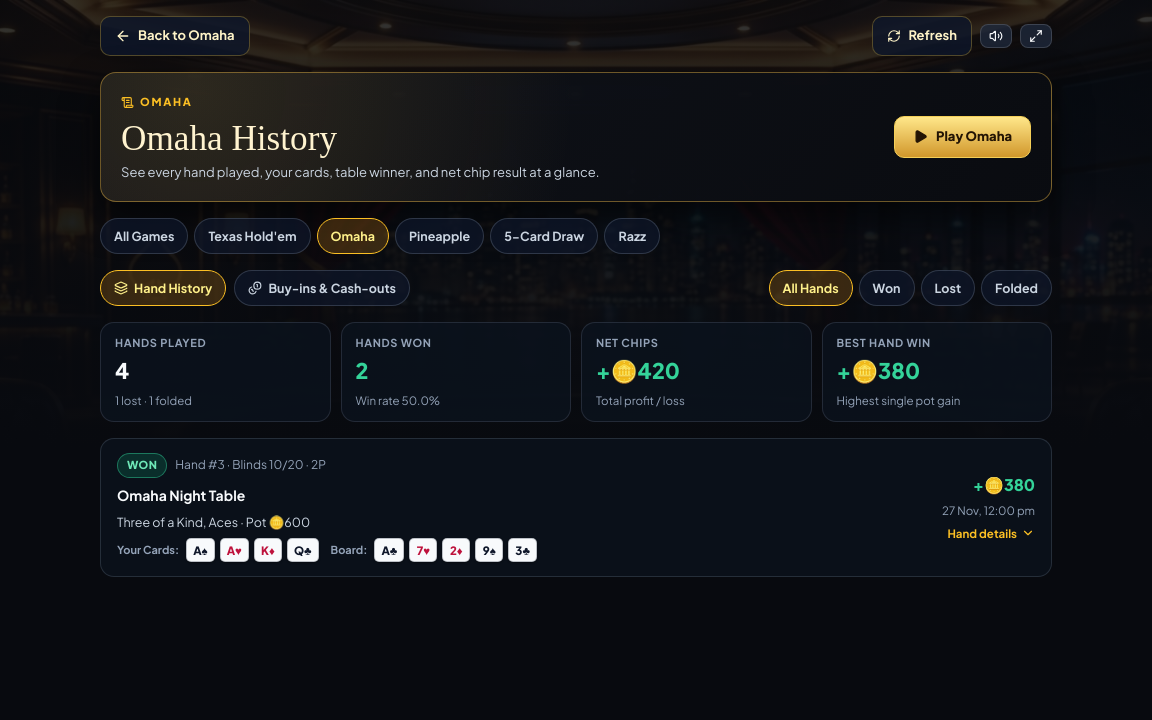
Test: HistoryPage › shows variant-scoped hand history, summary stats, cards, and expandable participant breakdown
This screenshot has width=1152, height=720.
Expected: the heading "Omaha History" is shown, x1=121 y1=119 x2=337 y2=158
Expected: the text "Omaha Night Table" is shown, x1=117 y1=486 x2=245 y2=504
# Expand hand details cleanly
What coordinates should you click on to do the following:
click the button "Omaha Night Table"
I would click on:
 (142, 465)
Its box is x1=101 y1=439 x2=1051 y2=576.
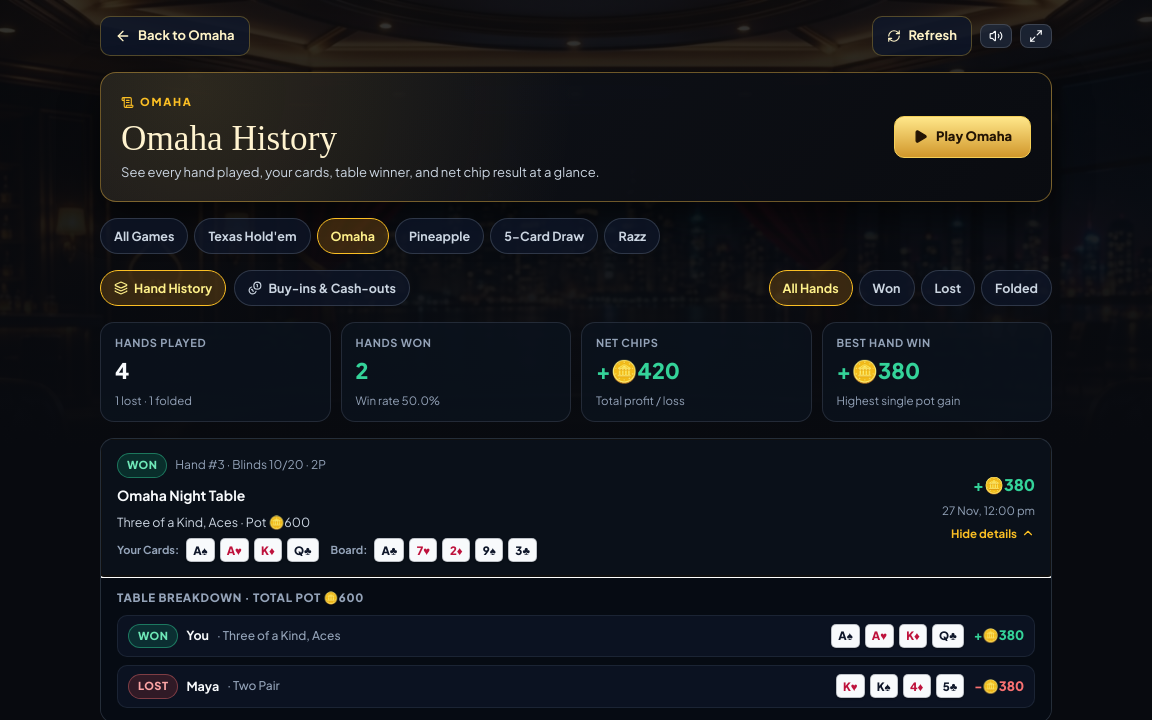
Now the text "Table Breakdown · Total Pot 🪙600" is shown, box x1=117 y1=590 x2=364 y2=605
Now the text "Maya" is shown, box x1=186 y1=677 x2=219 y2=696
# Filter by Won
What coordinates should you click on to do the following:
click the button "Won"
I would click on:
 (887, 288)
Its box is x1=859 y1=270 x2=914 y2=306.
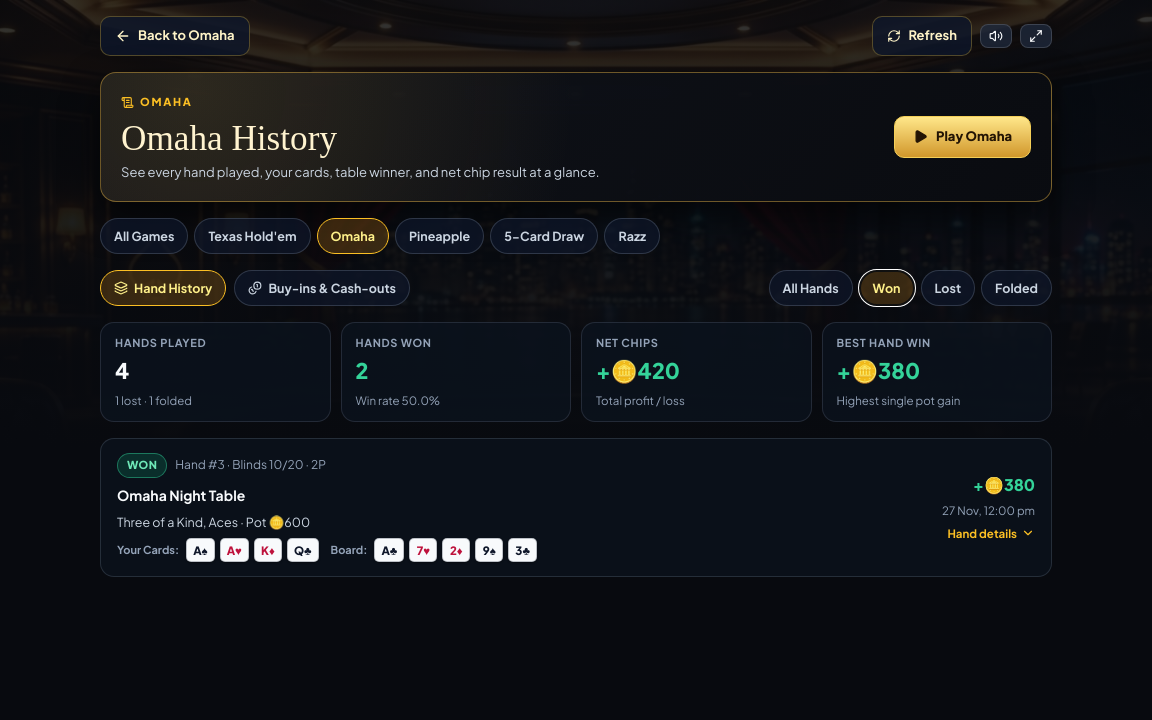
# Switch to Wallet Buy-ins & Cash-outs tab
What coordinates should you click on to do the following:
click the tab "Buy-ins & Cash-outs"
I would click on:
 (322, 288)
Its box is x1=234 y1=270 x2=410 y2=306.
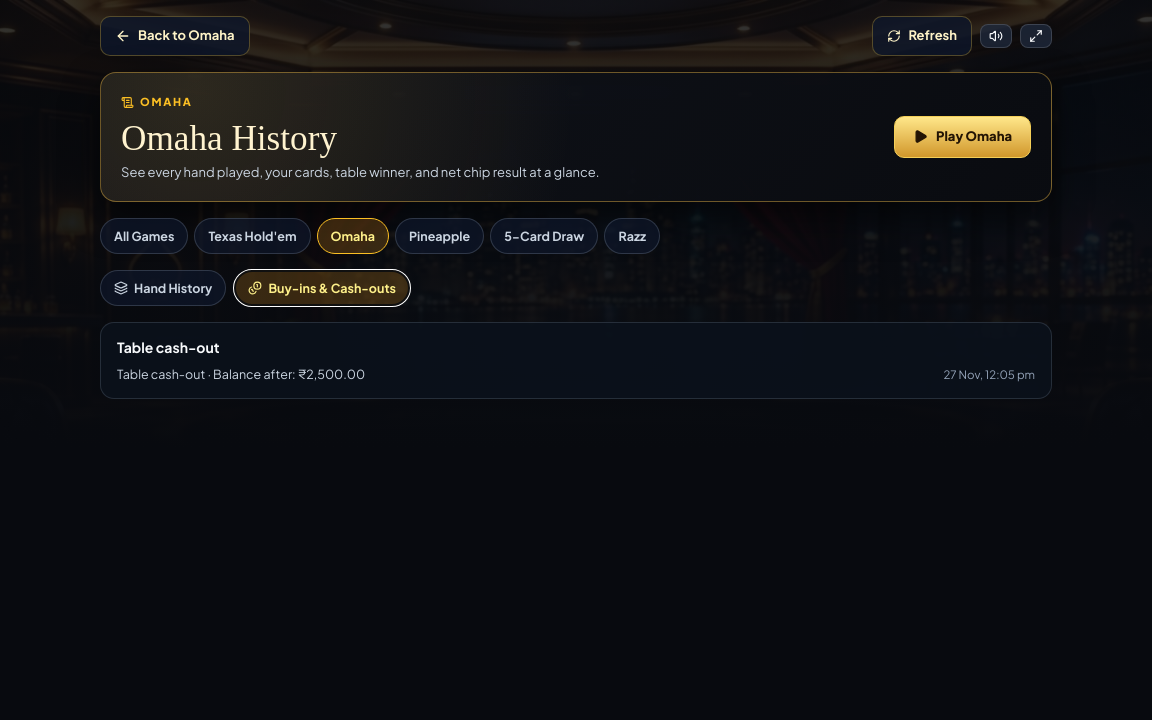
Now the text "Table cash-out" is shown, box x1=117 y1=338 x2=220 y2=356
